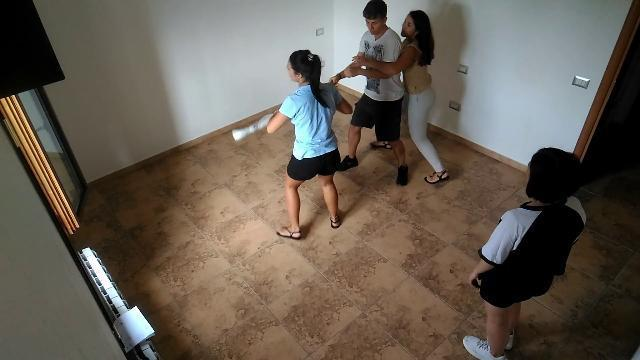non-violence: (460, 145, 588, 358), (233, 49, 354, 242)
violence: (332, 4, 452, 188)
